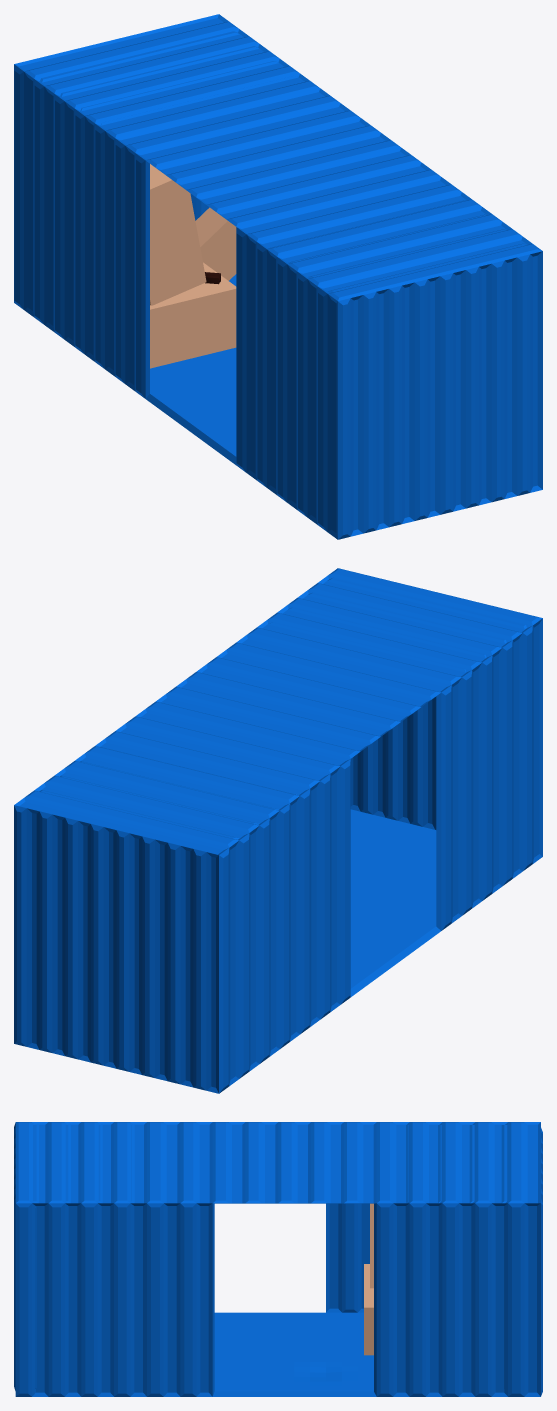
File: container_open.fbx
The picture shows the model from 3 angles, top to bottom: view 1: azimuth 30°, elevation 25°; view 2: azimuth 150°, elevation 25°; view 3: azimuth 270°, elevation 25°; orthographic projection. The views are drawn at different scales.
Parts seen in each view (by area): view 1: open_container; view 2: open_container; view 3: open_container.
Part boxes in pixels (x1,y1,x2,y2): open_container: (14, 14, 542, 539); open_container: (14, 568, 542, 1093); open_container: (14, 1122, 542, 1396).
Bounding box in the file's own units: 337 × 373 × 914.
